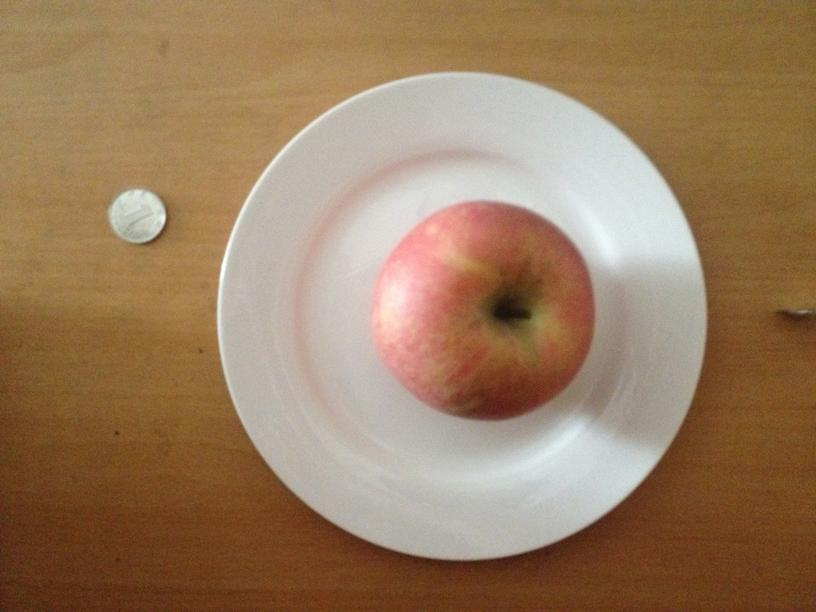apple: (373, 199, 594, 421)
coin: (106, 188, 167, 244)
